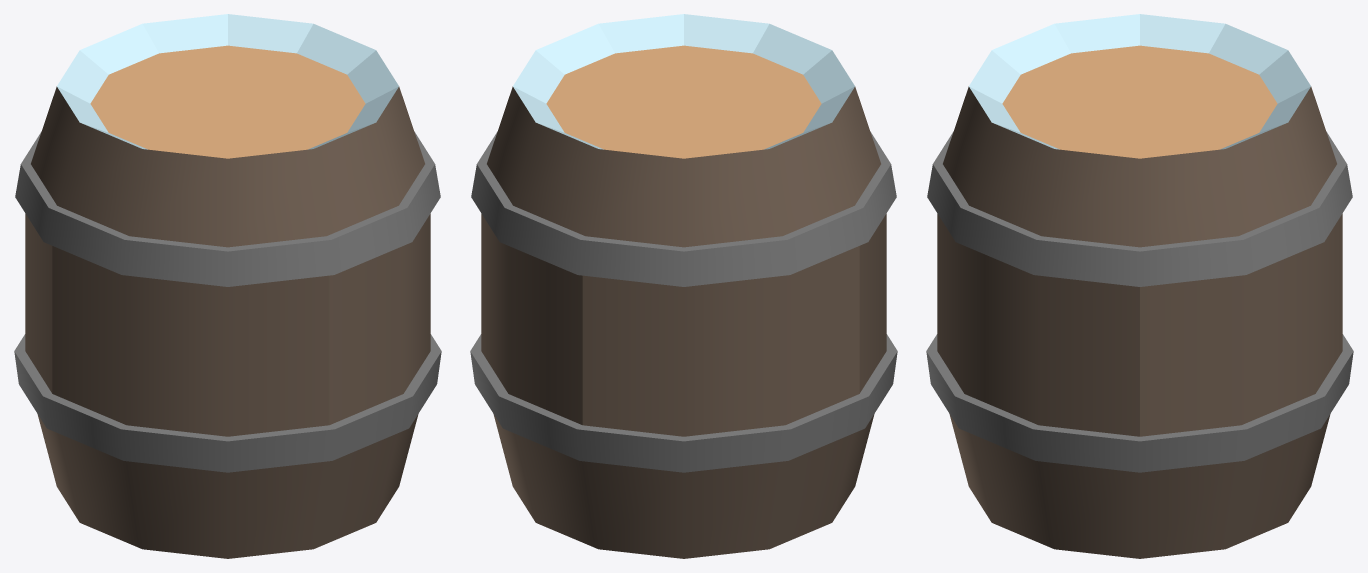
Rendered from SM_Barrel01_Closed.fbx.
The picture shows the model from 3 angles, left to right: view 1: azimuth 30°, elevation 25°; view 2: azimuth 150°, elevation 25°; view 3: azimuth 270°, elevation 25°; orthographic projection.
Visible parts, largest first — view 1: SM_Barrel01_Closed; view 2: SM_Barrel01_Closed; view 3: SM_Barrel01_Closed.
Boxes of the visible parts, x1,y1,x2,y2 form: SM_Barrel01_Closed: [14, 14, 441, 558]; SM_Barrel01_Closed: [470, 14, 897, 558]; SM_Barrel01_Closed: [926, 14, 1353, 558].
Bounding box in the file's own units: 69.32 × 71.62 × 69.32.
